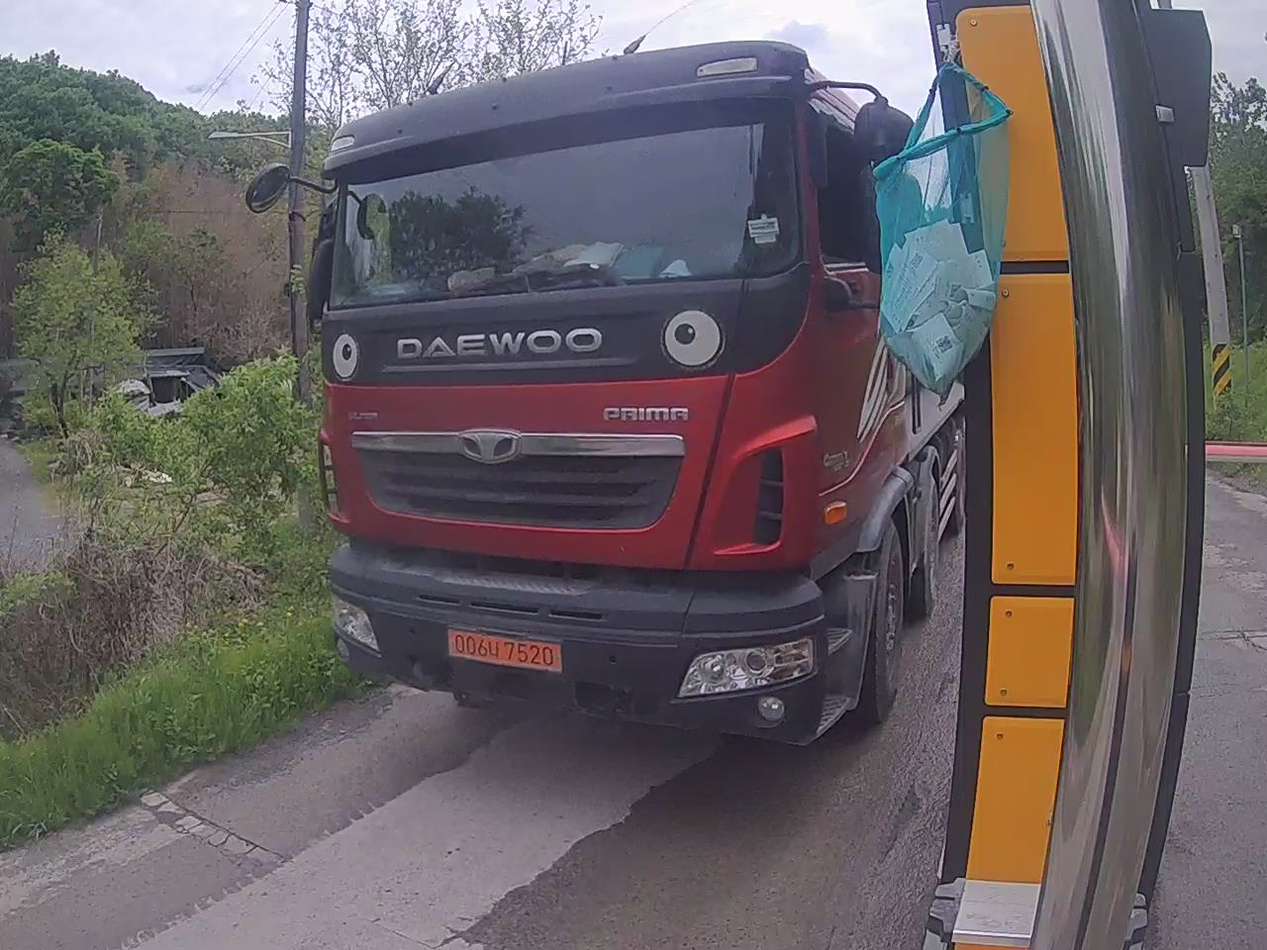license_plate: (448, 629, 562, 672)
truck: (309, 43, 963, 744)
